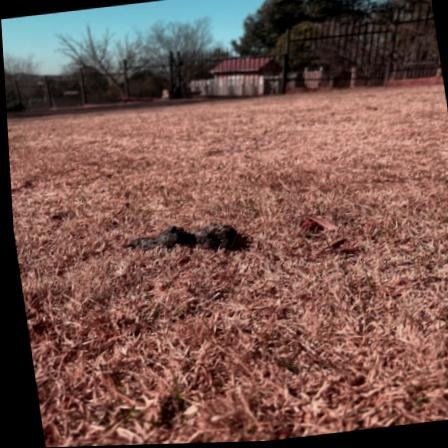dog-poop: (120, 205, 252, 269)
